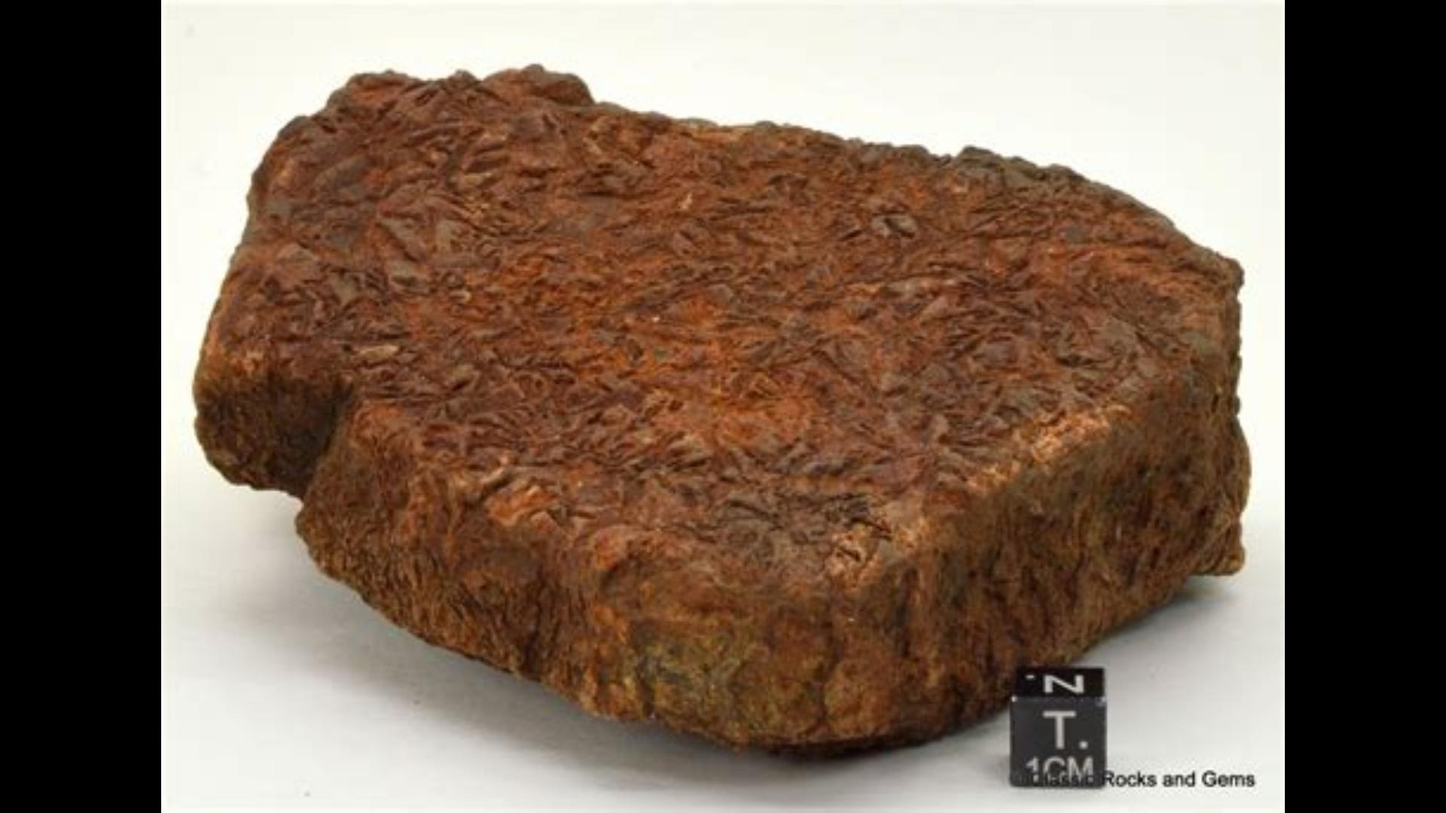rock: (194, 66, 1240, 744)
